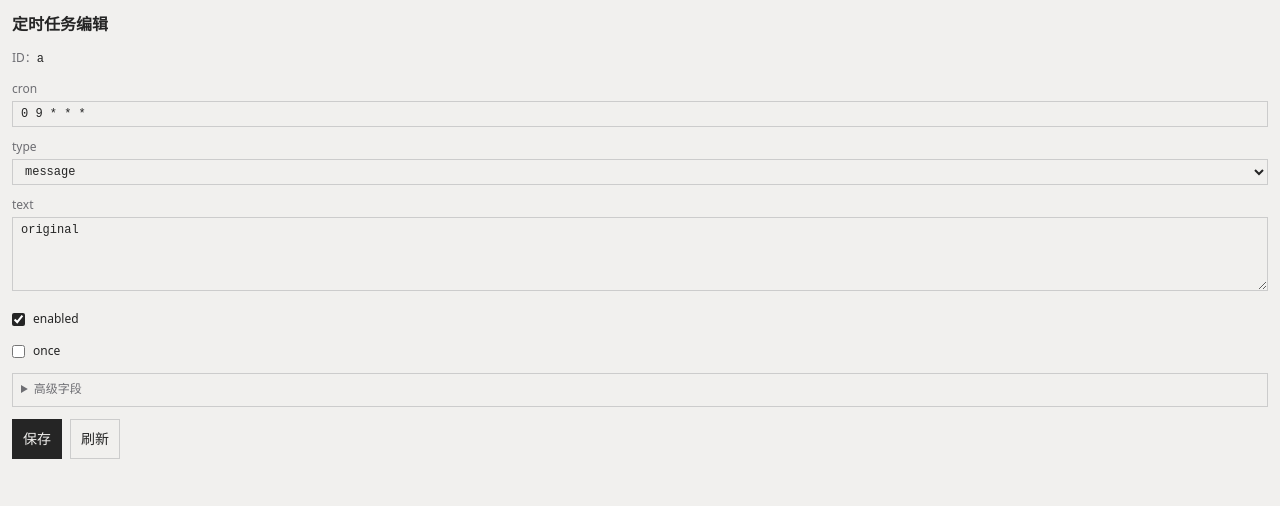
Test case: 定时任务右栏的保存 › 只改这一条里动过的字段，注释和别的条目照旧，后端的提醒接在结果后面
Replace the text in the text box labelled "text" with "changed": (640,254) x1=12 y1=217 x2=1268 y2=291
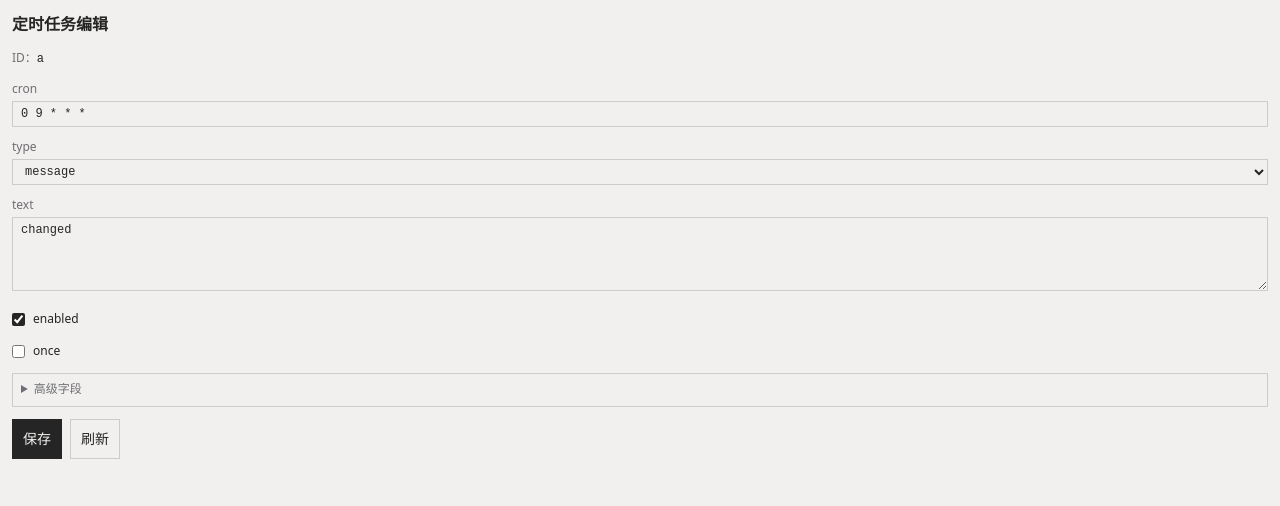
Click the button "保存": (37,439) x1=12 y1=419 x2=62 y2=459
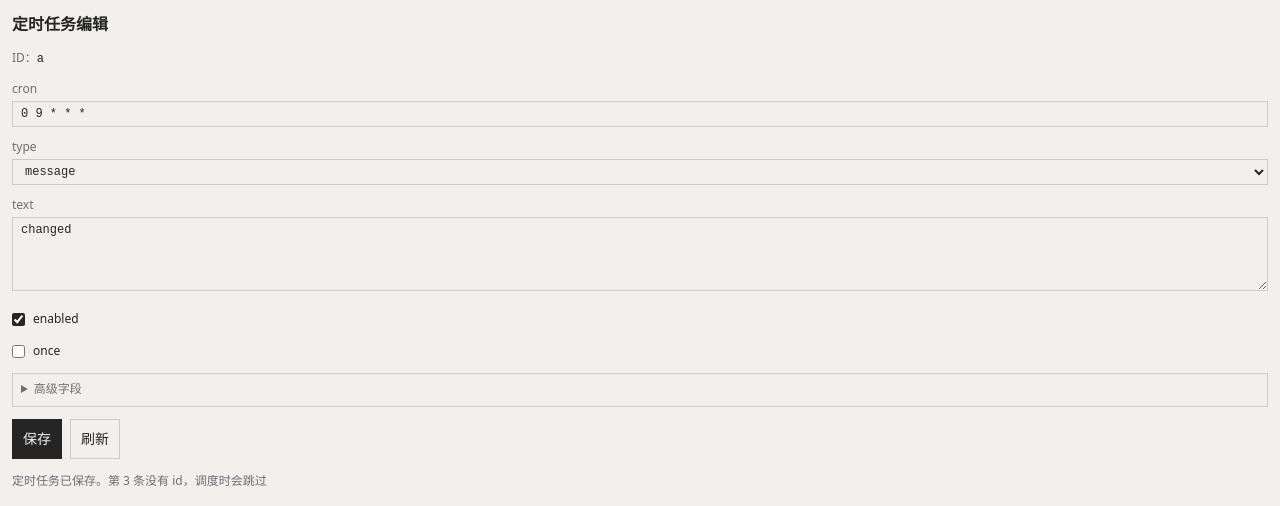
Expected: the text "定时任务已保存。第 3 条没有 id，调度时会跳过" is shown, x1=12 y1=472 x2=267 y2=489
